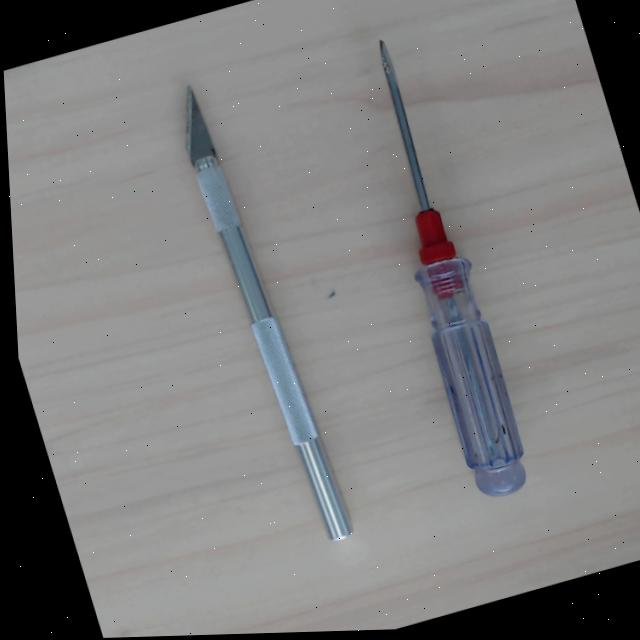Cutter-Kecil: (166, 85, 355, 543)
Obeng-Kecil: (349, 33, 533, 502)
